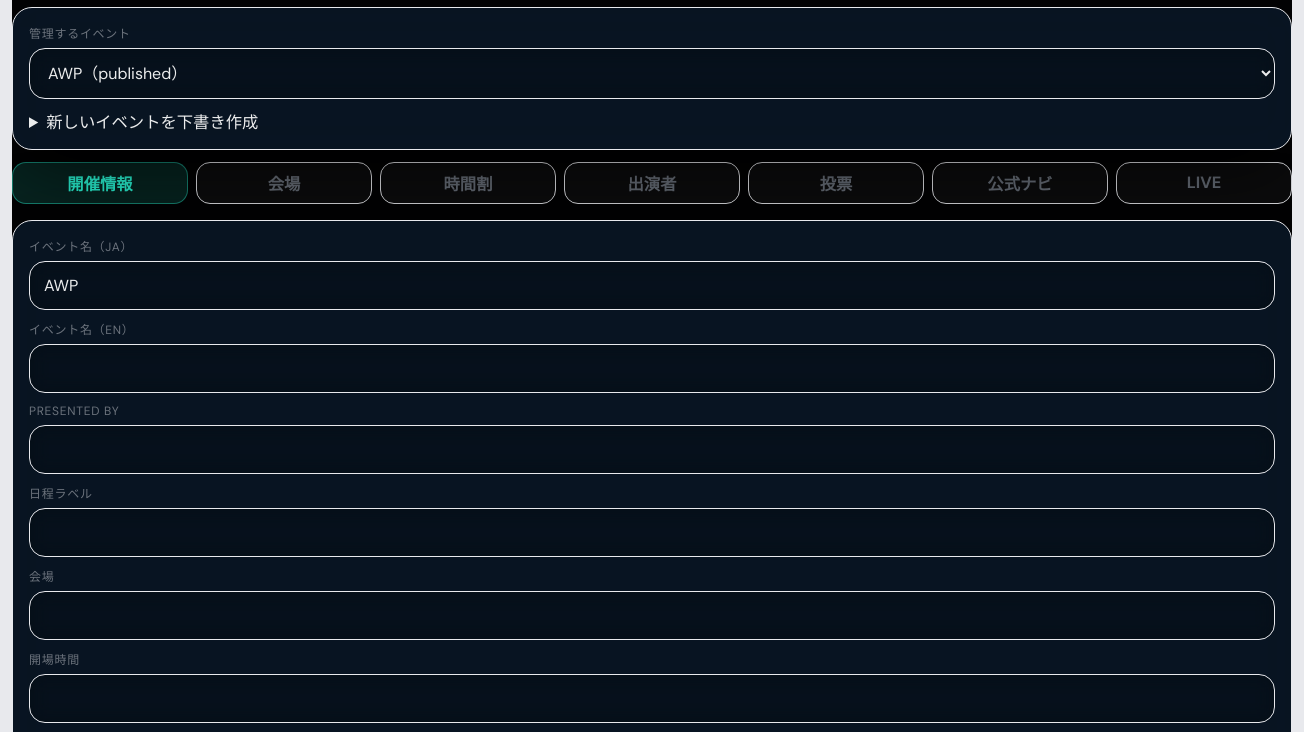
Scenario: preserves older rules without adding an unsupported device column
The width and height of the screenshot is (1304, 732).
Click the button "投票" at [836, 183], box top-left (748, 162), bottom-right (924, 204)
(page scrolled)
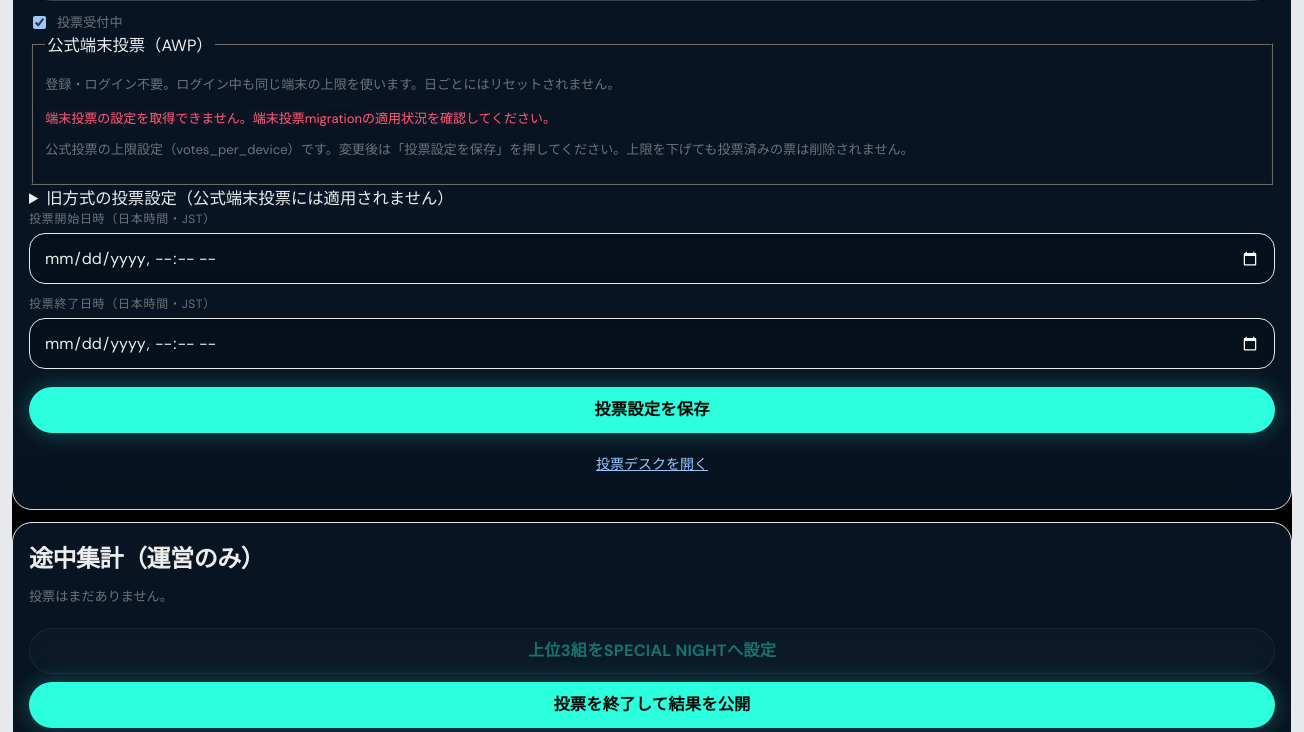
Now the text "公式端末投票（AWP）" is shown, box top-left (45, 32), bottom-right (215, 56)
Now the text "端末投票の設定を取得できません。端末投票migrationの適用状況を確認してください。" is shown, box top-left (45, 110), bottom-right (556, 127)
Click the button "投票設定を保存" at [652, 410], box top-left (29, 387), bottom-right (1275, 433)
(page scrolled)
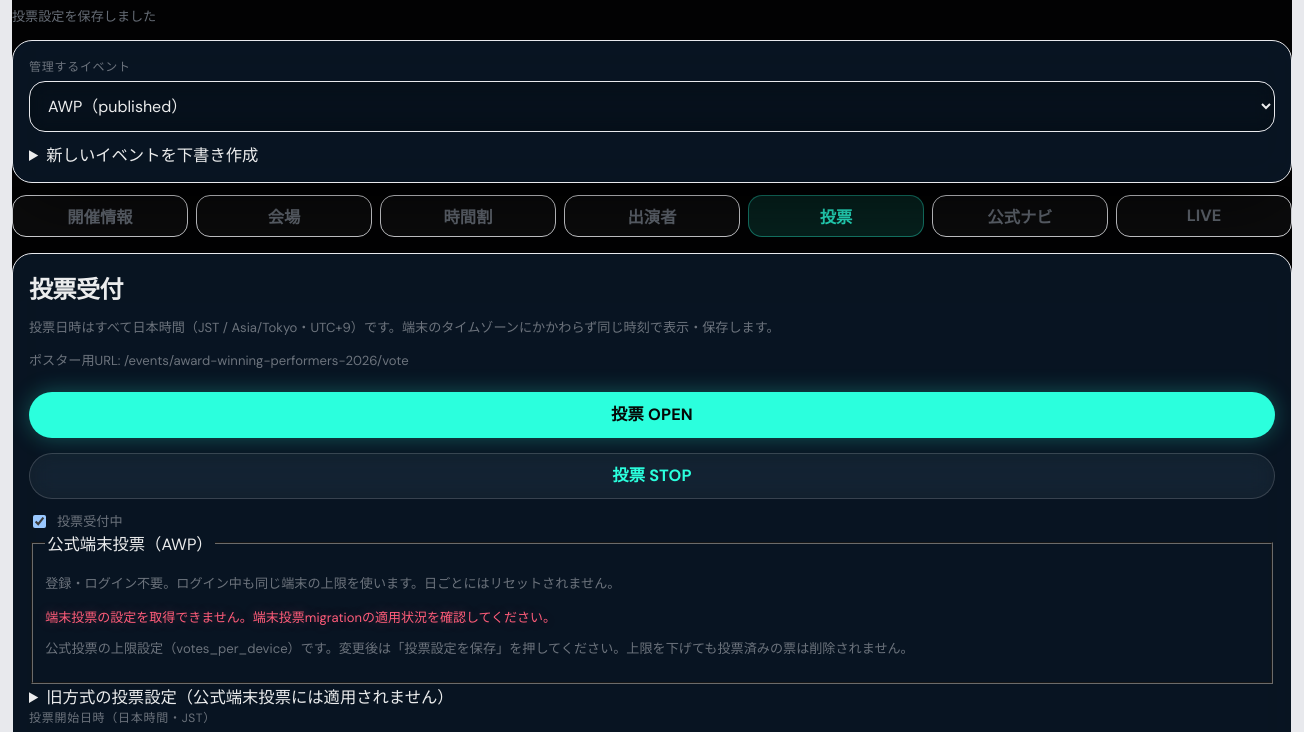
Now the text "投票設定を保存しました" is shown, box top-left (12, 8), bottom-right (156, 25)
